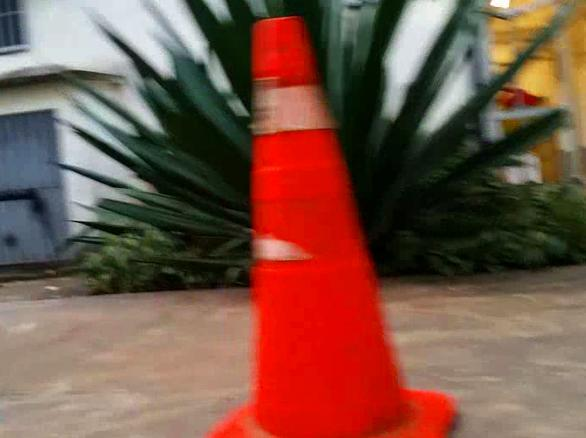0 cone: (206, 16, 451, 438)
